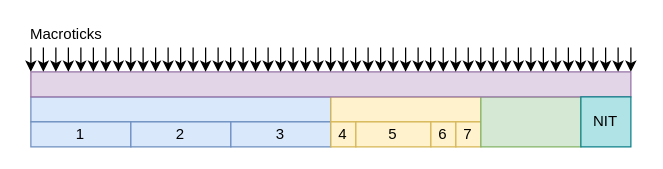
Some shapes in this 663 by 169 pixel diagram are drawn without their labels. The shapes that lost their labels are listed below. From the top down, each one's centre as x and y in pixels, then its label:
At point 330,84: "Cycle".
At point 180,109: "Static segment".
At point 405,109: "Dynamic segment".
At point 530,121: "Symbol".
